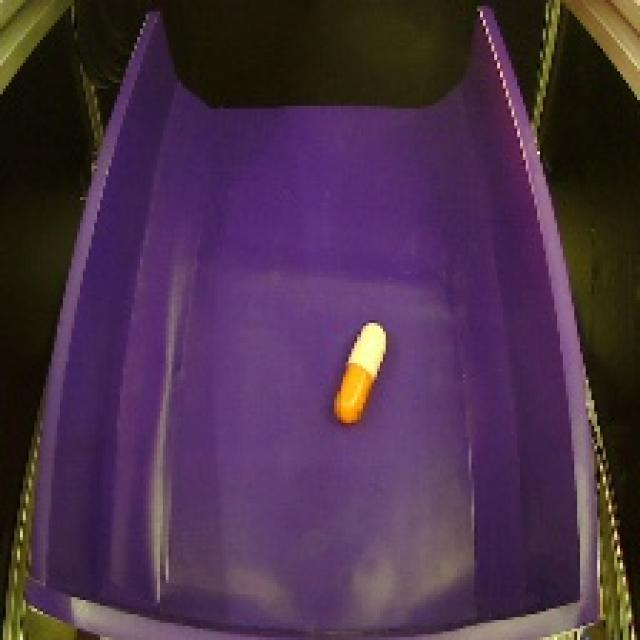small: (329, 316, 392, 431)
